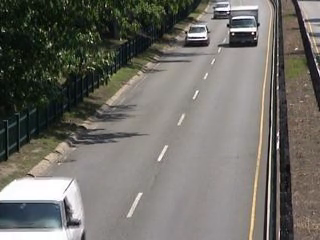car: (185, 23, 213, 47), (212, 1, 232, 18)
truck: (1, 177, 93, 240), (226, 7, 260, 48)
